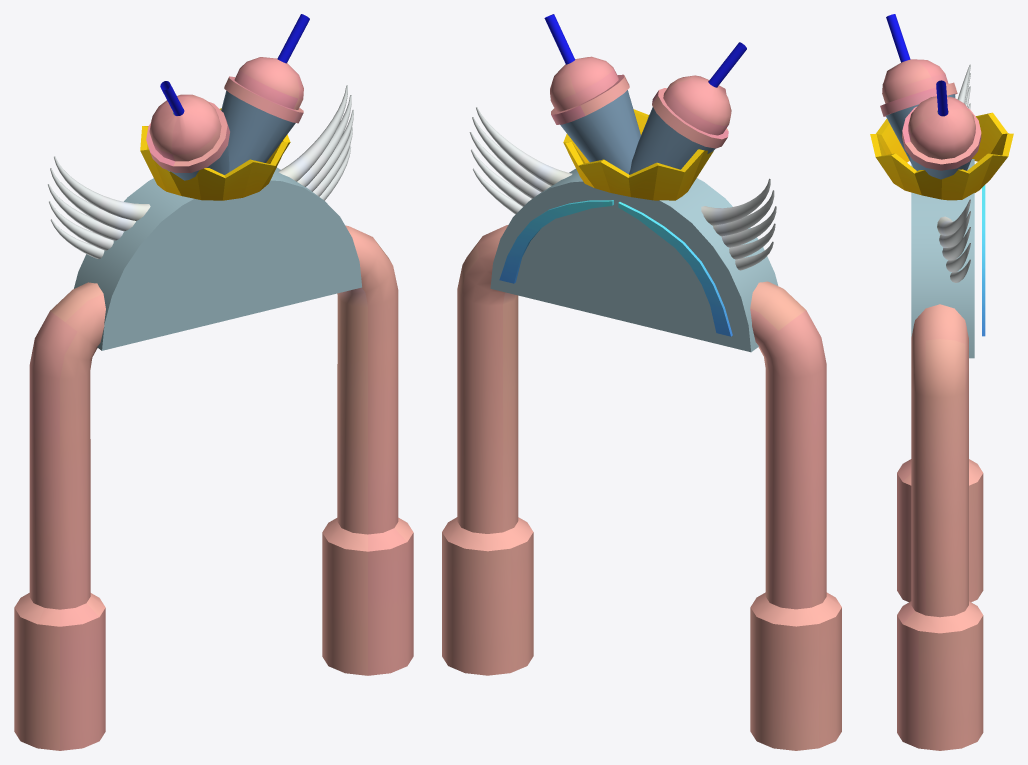
File: sellPORTALPART.fbx
3 renders of one model, left to right at view 1: azimuth 30°, elevation 25°; view 2: azimuth 150°, elevation 25°; view 3: azimuth 270°, elevation 25°, orthographic. The views are drawn at different scales.
Visible parts, largest first — view 1: Plane, Cylinder.019, Cylinder.010, Cylinder.015, Cylinder.013, Cylinder.009, BezierCurve.001, BezierCurve.002, BezierCurve.003, BezierCurve.004, BezierCurve.005; view 2: Plane, Cylinder.019, Cylinder.010, Cylinder.013, Cylinder.015, Cylinder.017, Cylinder.009, Cylinder.011, BezierCurve.001, BezierCurve.002, BezierCurve.003, BezierCurve.004 (+1 smaller); view 3: Plane, Cylinder.019, Cylinder.013, Cylinder.015, Cylinder.010, BezierCurve.001, Cylinder.017, Cylinder.011, BezierCurve.002, Cylinder.009, BezierCurve.003, BezierCurve.004.
Boxes of the visible parts, x1=… form: Plane: x1=14, y1=225, x2=413, y2=750; Cylinder.019: x1=74, y1=167, x2=361, y2=350; Cylinder.010: x1=146, y1=81, x2=229, y2=172; Cylinder.015: x1=224, y1=14, x2=309, y2=123; Cylinder.013: x1=140, y1=108, x2=290, y2=200; Cylinder.009: x1=221, y1=90, x2=295, y2=172; BezierCurve.001: x1=54, y1=85, x2=347, y2=220; BezierCurve.002: x1=50, y1=95, x2=351, y2=231; BezierCurve.003: x1=47, y1=109, x2=353, y2=240; BezierCurve.004: x1=48, y1=127, x2=352, y2=250; BezierCurve.005: x1=50, y1=146, x2=350, y2=258; Plane: x1=442, y1=225, x2=841, y2=750; Cylinder.019: x1=490, y1=168, x2=778, y2=352; Cylinder.010: x1=652, y1=42, x2=746, y2=148; Cylinder.013: x1=563, y1=109, x2=713, y2=200; Cylinder.015: x1=544, y1=14, x2=629, y2=124; Cylinder.017: x1=499, y1=200, x2=732, y2=336; Cylinder.009: x1=560, y1=90, x2=640, y2=174; Cylinder.011: x1=629, y1=107, x2=715, y2=174; BezierCurve.001: x1=476, y1=107, x2=770, y2=225; BezierCurve.002: x1=472, y1=117, x2=774, y2=236; BezierCurve.003: x1=469, y1=132, x2=776, y2=247; BezierCurve.004: x1=470, y1=149, x2=775, y2=259; Plane: x1=897, y1=304, x2=983, y2=750; Cylinder.019: x1=911, y1=159, x2=974, y2=358; Cylinder.013: x1=870, y1=112, x2=1013, y2=200; Cylinder.015: x1=902, y1=80, x2=981, y2=170; Cylinder.010: x1=880, y1=14, x2=957, y2=116; BezierCurve.001: x1=937, y1=64, x2=970, y2=235; Cylinder.017: x1=982, y1=185, x2=985, y2=336; Cylinder.011: x1=886, y1=94, x2=955, y2=163; BezierCurve.002: x1=939, y1=73, x2=970, y2=247; Cylinder.009: x1=909, y1=110, x2=971, y2=179; BezierCurve.003: x1=942, y1=86, x2=970, y2=260; BezierCurve.004: x1=946, y1=103, x2=970, y2=272.
Bounding box in the file's own units: 2025 × 3285 × 688.
